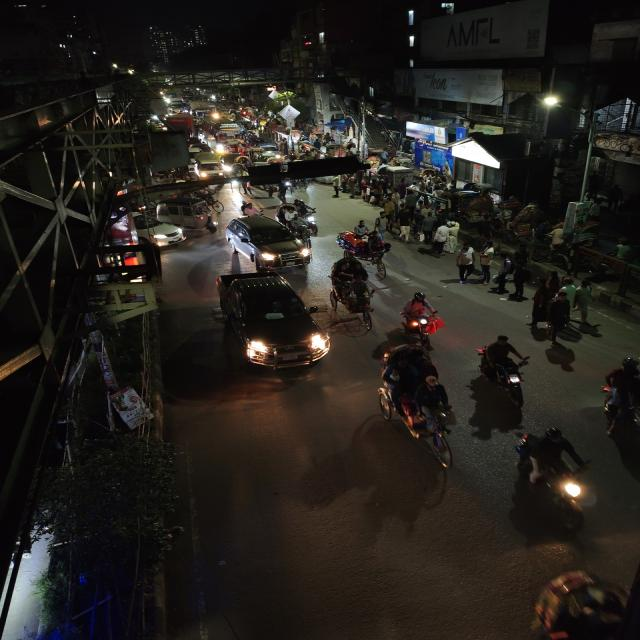bus: (206, 122, 245, 153)
car: (213, 270, 331, 378), (223, 214, 313, 270), (130, 213, 186, 247), (194, 157, 229, 179)
cng: (157, 201, 216, 233)
motorcycle: (510, 424, 610, 532), (597, 354, 640, 476), (474, 333, 534, 400), (398, 290, 447, 339), (290, 198, 322, 232), (237, 200, 264, 216)
pedestrian: (540, 290, 574, 342), (571, 279, 603, 329), (527, 277, 552, 339), (453, 242, 479, 284), (474, 240, 497, 284), (430, 219, 456, 257), (508, 261, 532, 301), (490, 252, 513, 293), (396, 206, 416, 244), (416, 210, 436, 243), (382, 193, 399, 221), (373, 210, 390, 236), (362, 179, 378, 205), (545, 269, 562, 293), (329, 177, 344, 199)
rickshaw: (376, 343, 456, 469), (328, 270, 378, 332), (334, 228, 392, 276)
